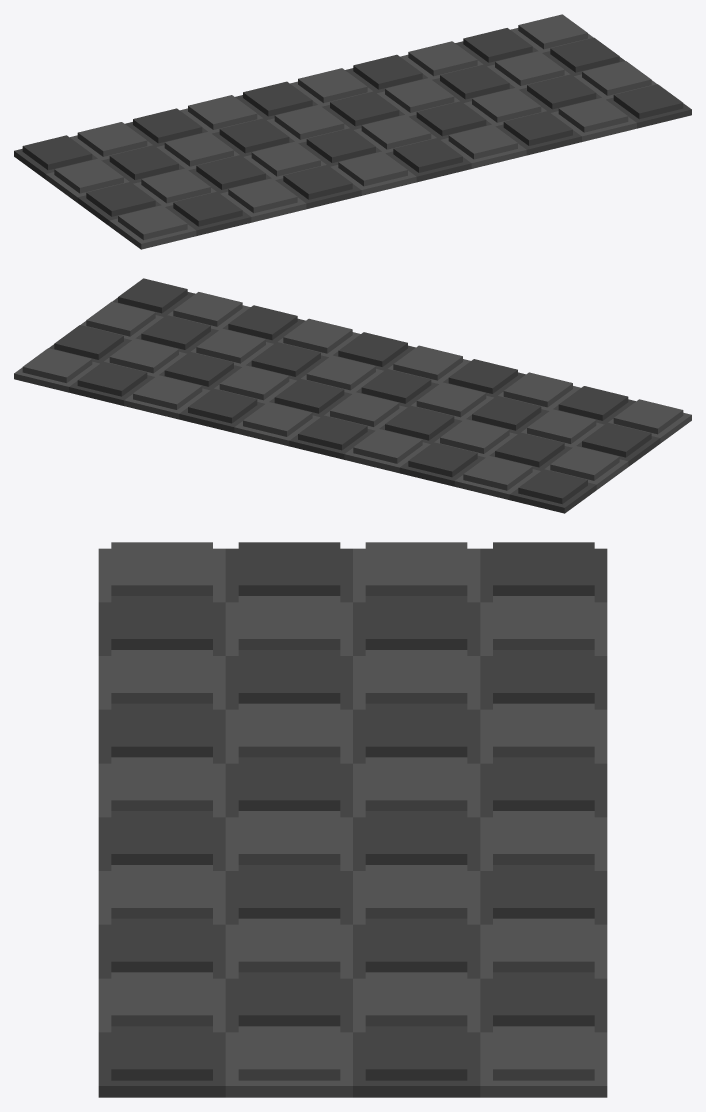
Rendered from Suelo_1.obj.
The picture shows the model from 3 angles, top to bottom: view 1: azimuth 30°, elevation 25°; view 2: azimuth 150°, elevation 25°; view 3: azimuth 270°, elevation 25°; orthographic projection. The views are drawn at different scales.
Bounding box in the file's own units: 10 × 0.2 × 4.
Materials: 1 (1 with a texture image).
